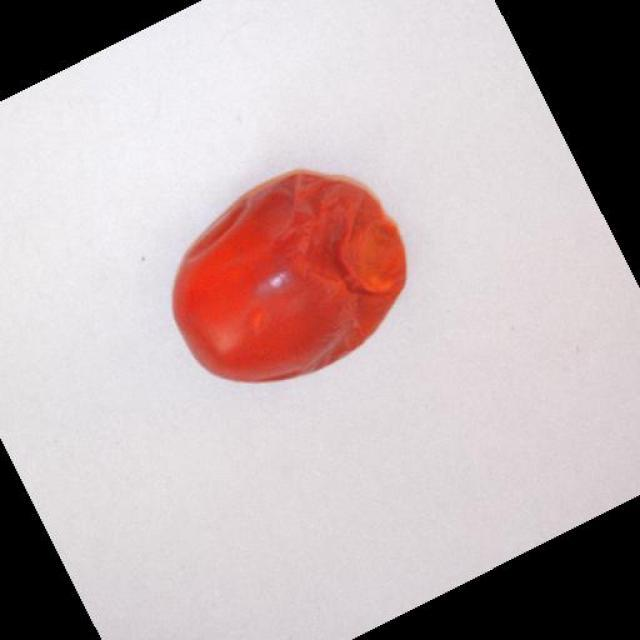Rotten Tomato: (162, 164, 424, 390)
